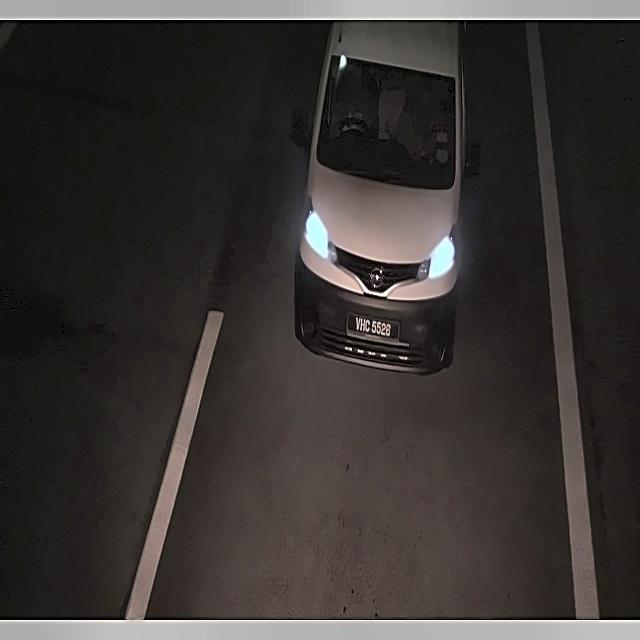car: (346, 305, 400, 347)
